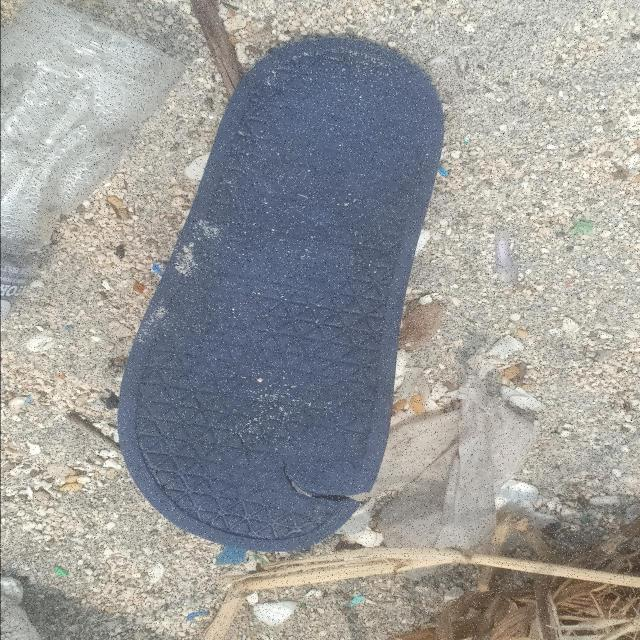rubber_waste: (117, 37, 447, 553)
